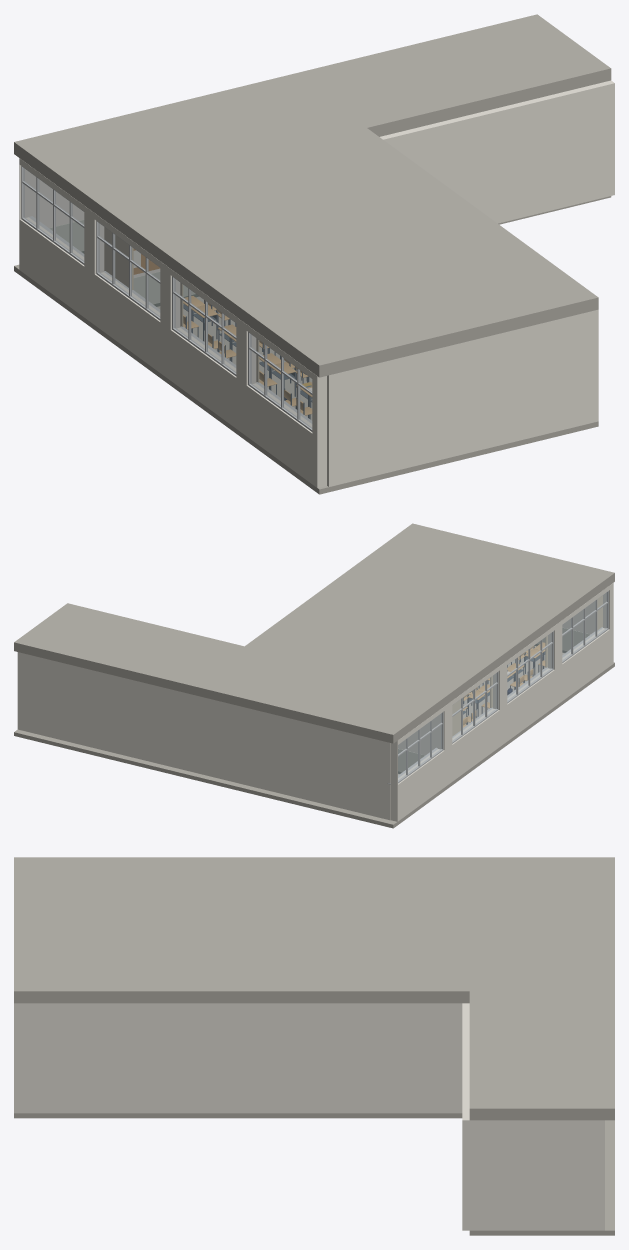
File: reality-classroom-3f.glb
The picture shows the model from 3 angles, top to bottom: view 1: azimuth 30°, elevation 25°; view 2: azimuth 150°, elevation 25°; view 3: azimuth 270°, elevation 25°; orthographic projection. The views are drawn at different scales.
Parts seen in each view (by area): view 1: C-shell_ceiling_slab, D-shell_ceiling_slab, C-south_wall, D-corridor_south_wall, B-west_wall_3F.007, B-west_wall_3F.010, B-west_wall_3F.004, B-west_wall_3F.001, C-shell_floor_slab, W3F-1_glass, W3F-2_glass, W3F-3_glass (+11 smaller); view 2: C-shell_ceiling_slab, D-corridor_north_wall, D-shell_ceiling_slab, D-shell_floor_slab, B-west_wall_3F.004, B-west_wall_3F.010, B-west_wall_3F.007, B-west_wall_3F.001, W3F-2_glass, W3F-3_glass, W3F-1_glass, W3F-0_glass (+9 smaller); view 3: C-shell_ceiling_slab, C-east_wall, D-shell_ceiling_slab, D-corridor_end_wall_TBD, C-shell_floor_slab, D-shell_floor_slab, D-corridor_south_wall.
Part boxes in pixels (bbox=[...]): C-shell_ceiling_slab: bbox=[88, 128, 598, 377]; D-shell_ceiling_slab: bbox=[14, 14, 611, 207]; C-south_wall: bbox=[327, 310, 598, 486]; D-corridor_south_wall: bbox=[380, 82, 608, 223]; B-west_wall_3F.007: bbox=[170, 328, 236, 428]; B-west_wall_3F.010: bbox=[246, 383, 312, 483]; B-west_wall_3F.004: bbox=[94, 272, 160, 372]; B-west_wall_3F.001: bbox=[19, 217, 84, 316]; C-shell_floor_slab: bbox=[88, 320, 598, 494]; W3F-1_glass: bbox=[98, 223, 159, 316]; W3F-2_glass: bbox=[174, 279, 235, 372]; W3F-3_glass: bbox=[250, 334, 311, 428]; C-shell_ceiling_slab: bbox=[245, 523, 614, 704]; D-corridor_north_wall: bbox=[17, 652, 390, 820]; D-shell_ceiling_slab: bbox=[14, 603, 446, 743]; D-shell_floor_slab: bbox=[14, 729, 446, 828]; B-west_wall_3F.004: bbox=[452, 708, 499, 781]; B-west_wall_3F.010: bbox=[562, 628, 609, 700]; B-west_wall_3F.007: bbox=[507, 668, 554, 741]; B-west_wall_3F.001: bbox=[398, 749, 444, 821]; W3F-2_glass: bbox=[507, 633, 551, 700]; W3F-3_glass: bbox=[562, 593, 606, 660]; W3F-1_glass: bbox=[452, 673, 496, 741]; W3F-0_glass: bbox=[398, 713, 441, 780]; C-shell_ceiling_slab: bbox=[14, 857, 469, 1003]; C-east_wall: bbox=[14, 1003, 462, 1113]; D-shell_ceiling_slab: bbox=[469, 857, 614, 1120]; D-corridor_end_wall_TBD: bbox=[462, 1117, 604, 1230]; C-shell_floor_slab: bbox=[14, 1113, 462, 1118]; D-shell_floor_slab: bbox=[469, 1120, 614, 1235]; D-corridor_south_wall: bbox=[462, 1003, 469, 1117].
Size of the model in its own units: 15.92 by 3.75 by 16.09.
